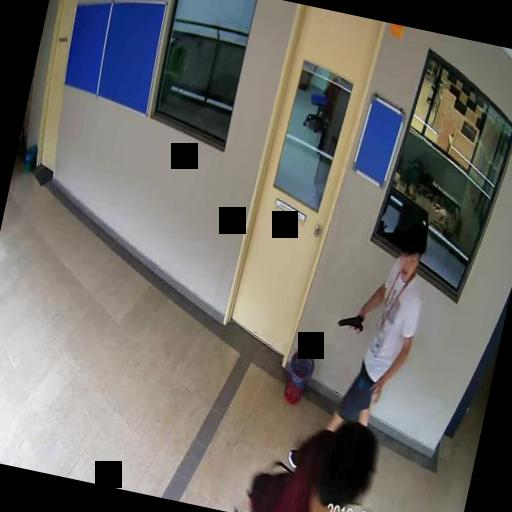Handgun: (335, 310, 363, 334)
